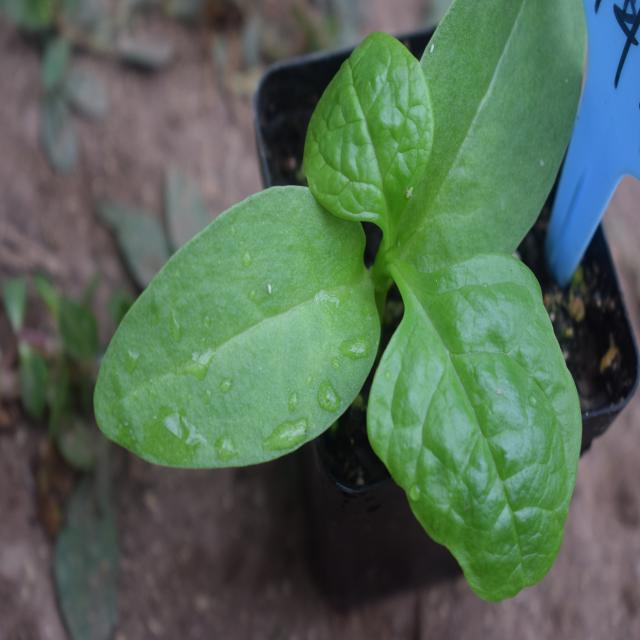Ceylon spinach: (131, 0, 594, 599)
